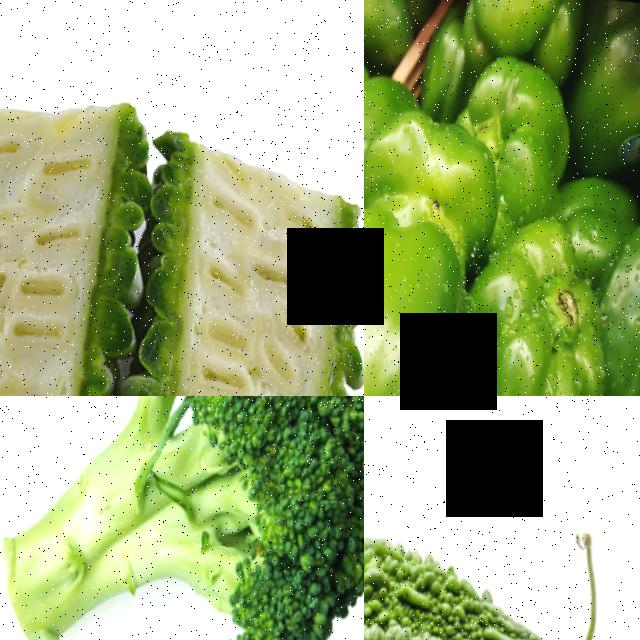bell pepper: (468, 231, 620, 396), (364, 106, 513, 253), (364, 249, 499, 396), (578, 233, 640, 396)
bitter gourd: (94, 101, 364, 396), (0, 70, 163, 396), (364, 508, 533, 640)
broccoli: (0, 396, 364, 640)
